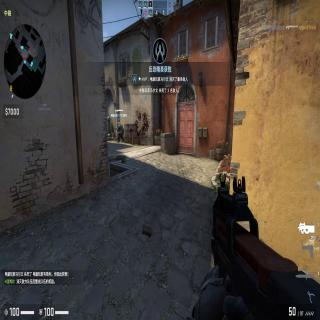CT-Body: (114, 121, 125, 144)
CT-Head: (117, 122, 120, 125)
